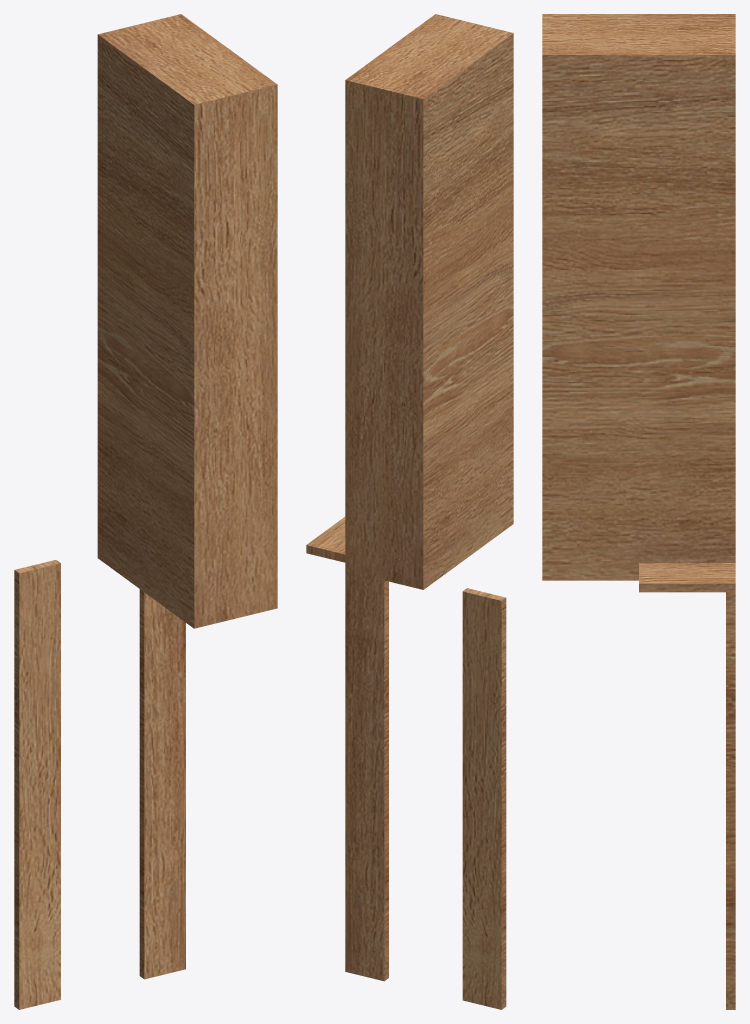
File: 46586_gpt-only.glb
The picture shows the model from 3 angles, left to right: view 1: azimuth 30°, elevation 25°; view 2: azimuth 150°, elevation 25°; view 3: azimuth 270°, elevation 25°; orthographic projection. The views are drawn at different scales.
Visible parts, largest first — view 1: ParentEmpty; view 2: ParentEmpty; view 3: ParentEmpty.
Boxes of the visible parts, box(x1,y1,x2,y2) form: ParentEmpty: box(14, 14, 277, 1009); ParentEmpty: box(306, 14, 513, 1009); ParentEmpty: box(542, 14, 735, 1009).
Bounding box in the file's own units: 0.2294 × 1 × 0.1835.
Materials: 1 (1 with a texture image).
